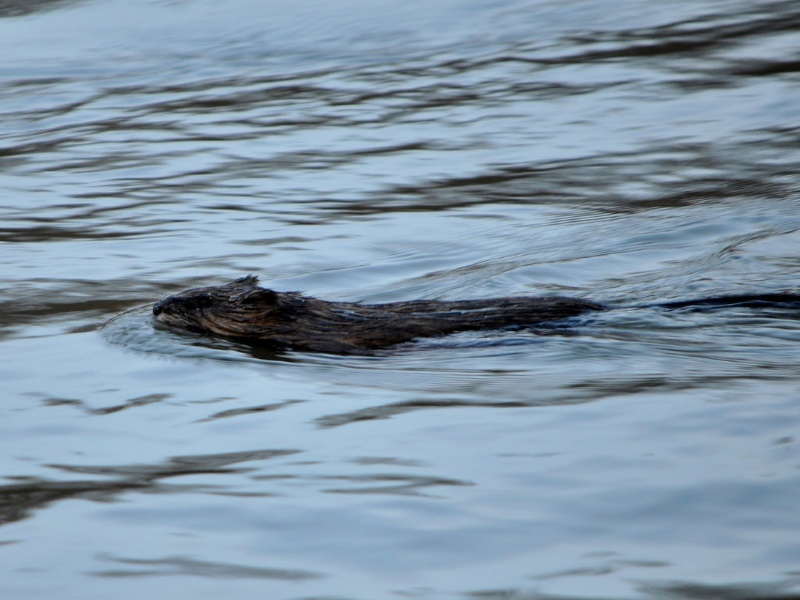minkish: (147, 270, 800, 360)
